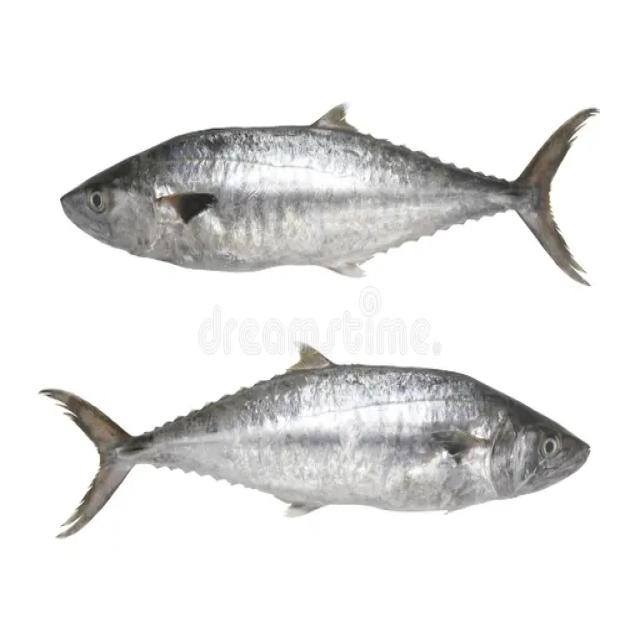seer: (35, 341, 596, 542), (58, 104, 599, 290)
